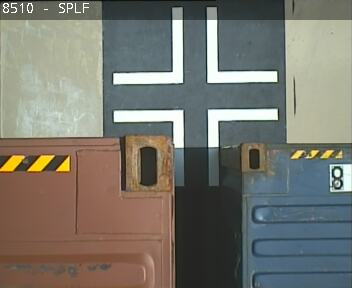groundmarker_1: (111, 5, 279, 85), (113, 107, 279, 186)
